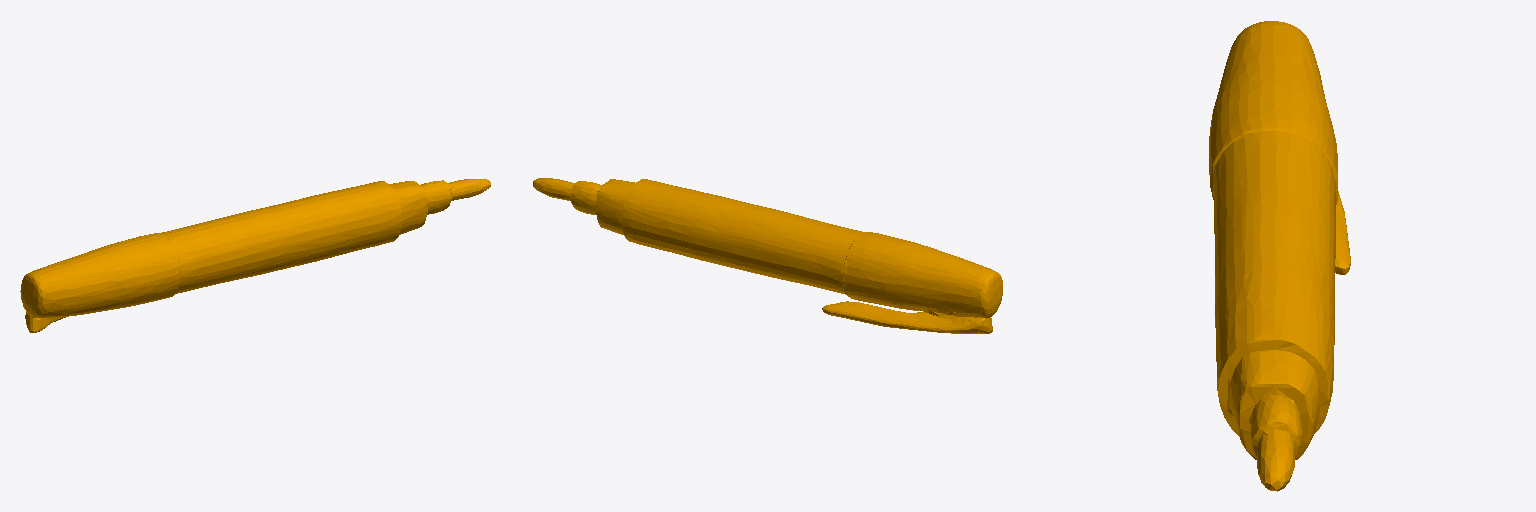
robot.urdf — sharpie_open:
<?xml version="1.0"?>
<robot name="sharpie_open">
  <link name="sharpie_open">
    <visual>
      <origin xyz="0 0 0" rpy="0 0 0"/>
      <geometry>
        <mesh filename="sharpie_open.obj" scale="1 1 1"/>
      </geometry>
    </visual>
    <collision>
      <origin xyz="0 0 0" rpy="0 0 0"/>
      <geometry>
        <mesh filename="sharpie_open.obj" scale="1 1 1"/>
      </geometry>
    </collision>
    <inertial>
      <density value="400.0"/>
    </inertial>
  </link>
</robot>

--- What the picture shows (computed from the rendered views, not written in the file) ---
The picture shows the robot from 3 angles, left to right: view 1: azimuth 30°, elevation 25°; view 2: azimuth 150°, elevation 25°; view 3: azimuth 270°, elevation 25°; orthographic projection.
Model sharpie_open with 1 links and 0 joints (none), rooted at sharpie_open, posed all joints at 0.
Visible links, largest first — view 1: sharpie_open; view 2: sharpie_open; view 3: sharpie_open.
Boxes of the visible links, box(x1,y1,x2,y2) form: sharpie_open: box(20, 179, 490, 332); sharpie_open: box(533, 178, 1002, 333); sharpie_open: box(1209, 21, 1350, 491).
Size in the robot's own frame: 0.1797 by 0.0251 by 0.0266 metres.
Meshes: 1 distinct files referenced, 1 mesh visuals loaded (1 OBJ).
